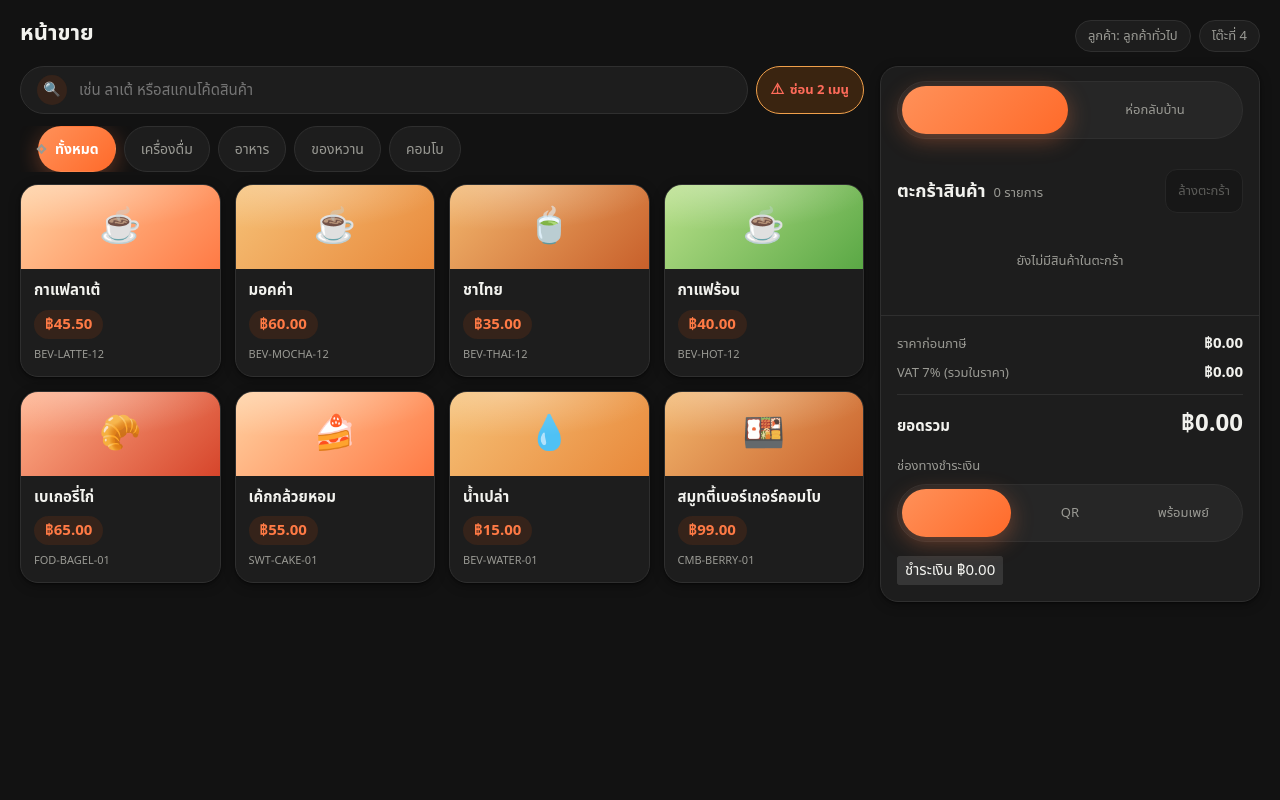
Test case: SalesTerminalView — the domain rules showing through the grid › sums two different items to their exact combined total
The width and height of the screenshot is (1280, 800).
Click the button with aria-label "เพิ่ม กาแฟลาเต้" at (120, 280), box top-left (20, 184), bottom-right (220, 376)
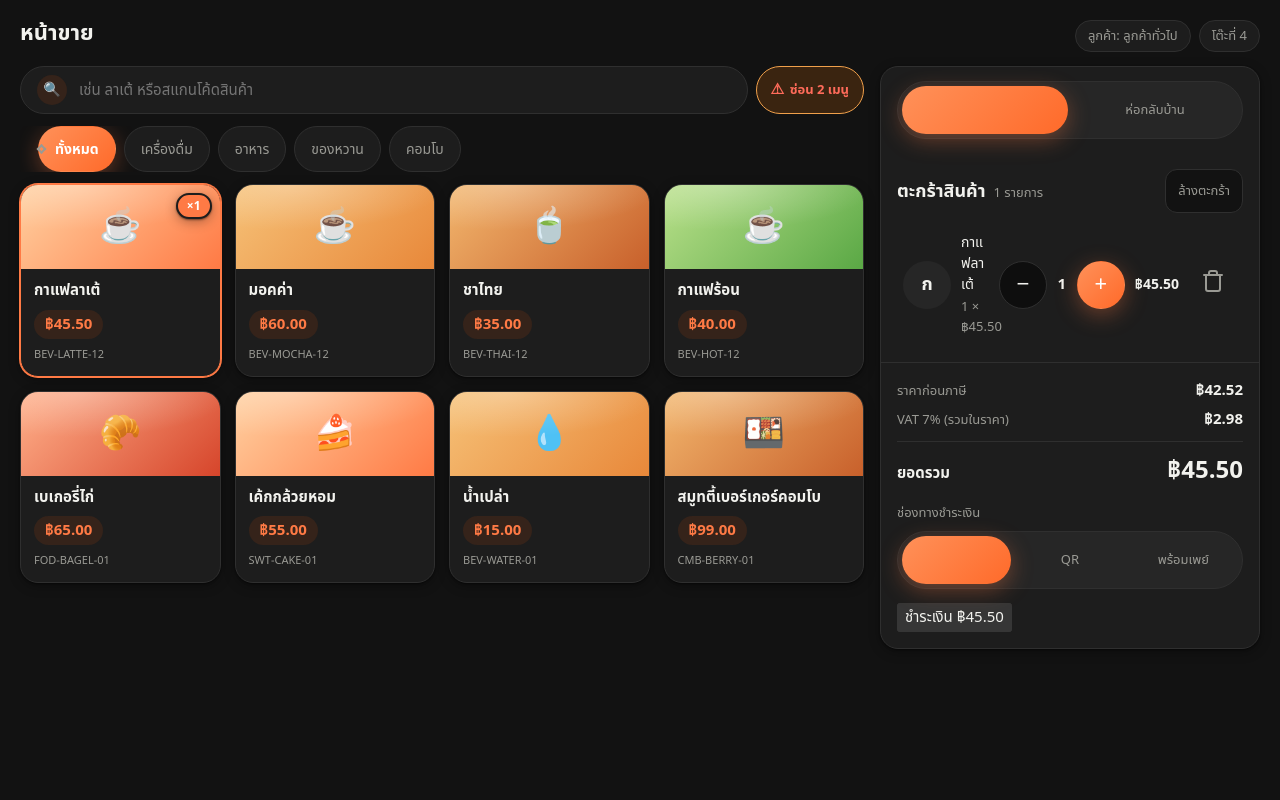
Click the button "🍵 ชาไทย ฿35.00 BEV-THAI-12" at (549, 280), box top-left (449, 184), bottom-right (650, 376)
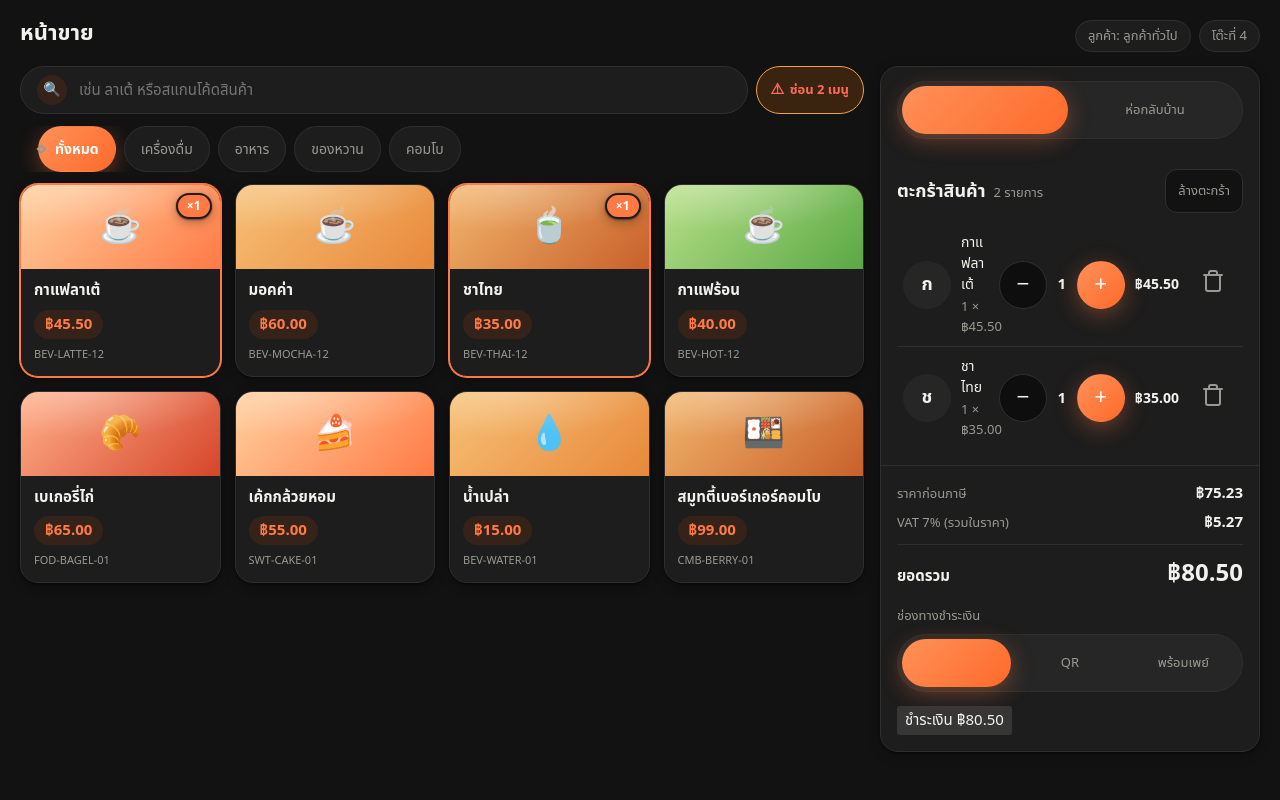
Click the button with aria-label "เพิ่ม มอคค่า" at (335, 280), box top-left (234, 184), bottom-right (435, 376)
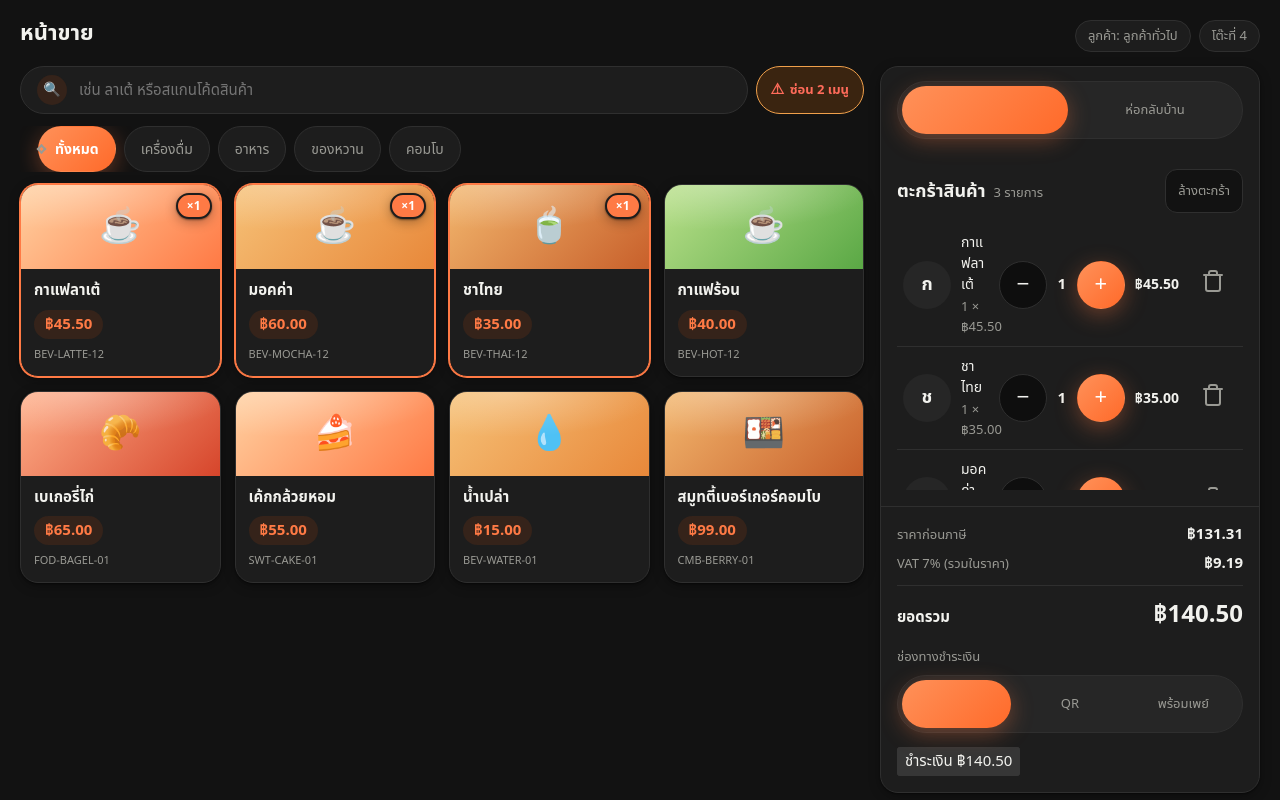
Expected: the text with test id "cart-item-count" reads "3 รายการ", top-left (994, 182), bottom-right (1043, 202)
